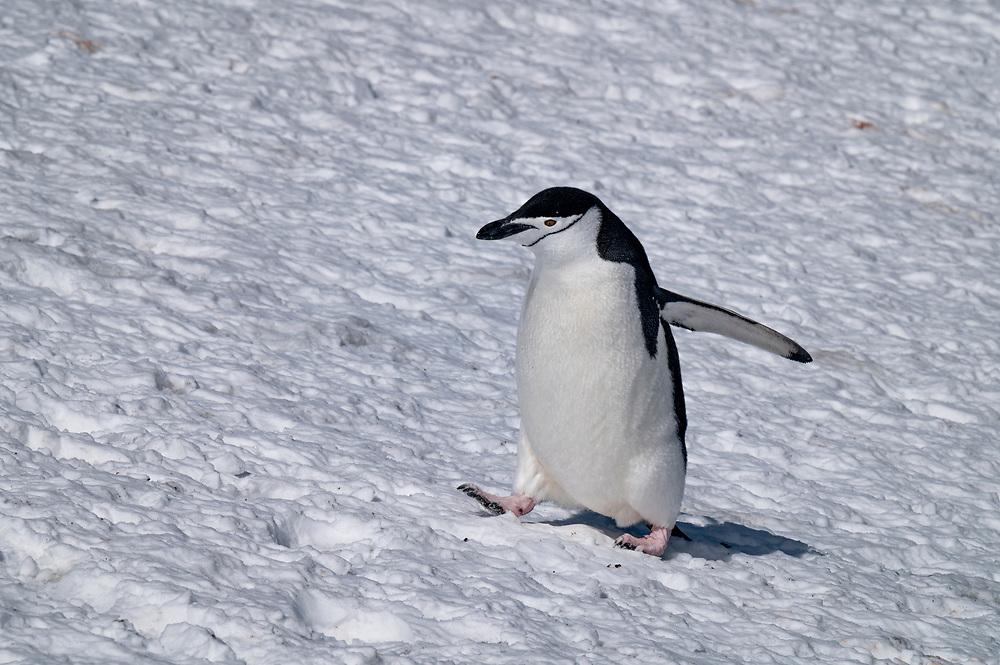chinstrap: (408, 167, 825, 554)
